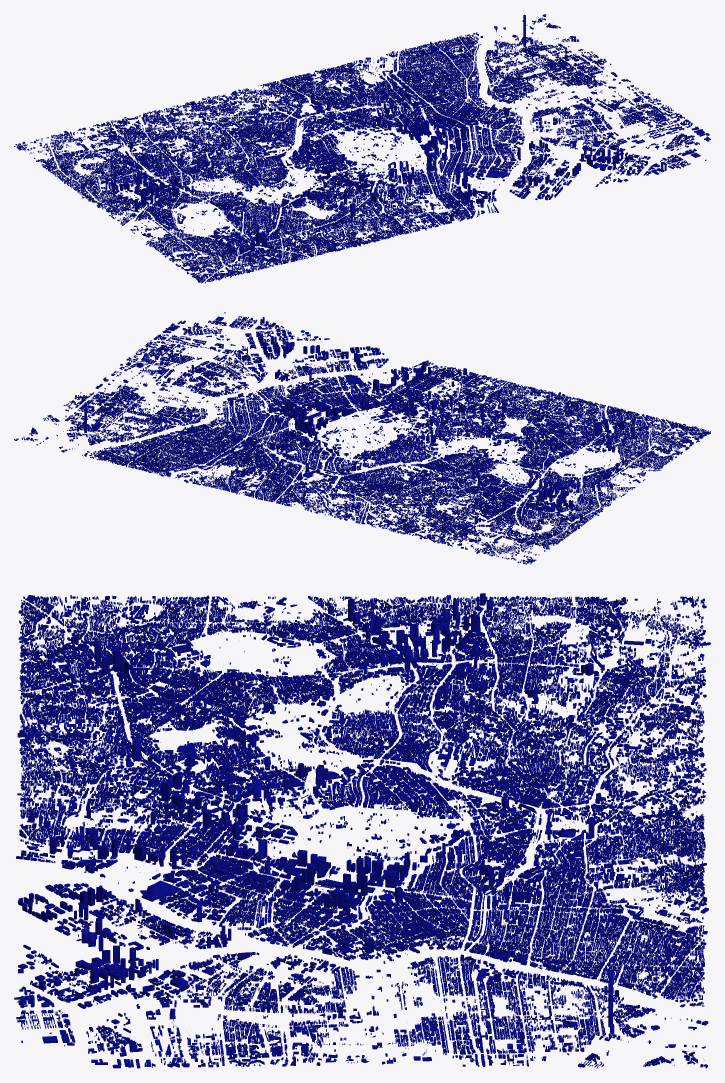
Rendered from tokyo_map_web.glb.
3 renders of one model, top to bottom at view 1: azimuth 30°, elevation 25°; view 2: azimuth 150°, elevation 25°; view 3: azimuth 270°, elevation 25°, orthographic. The views are drawn at different scales.
Visible parts, largest first — view 1: Areas:building; view 2: Areas:building; view 3: Areas:building.
Part boxes in pixels (left/top/right/bottom): Areas:building: left=14, top=14, right=710, bottom=283; Areas:building: left=14, top=312, right=710, bottom=564; Areas:building: left=14, top=593, right=710, bottom=1068.
Bounding box in the file's own units: 1146 × 63.35 × 714.
